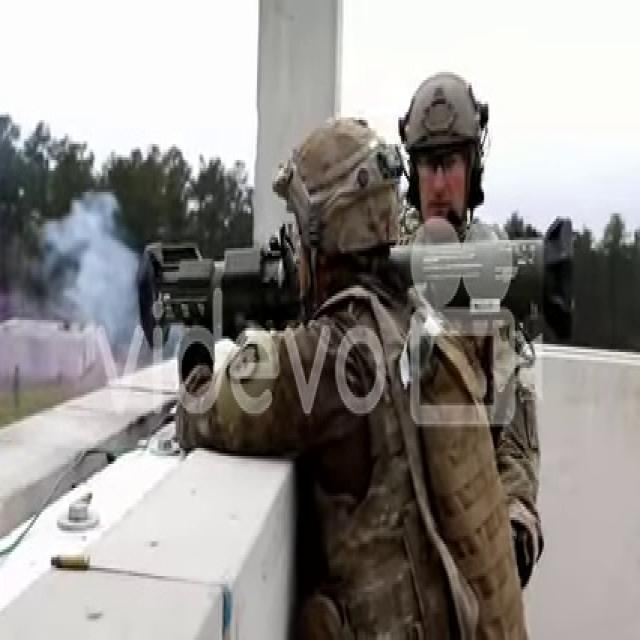bazooka: (135, 215, 586, 360)
